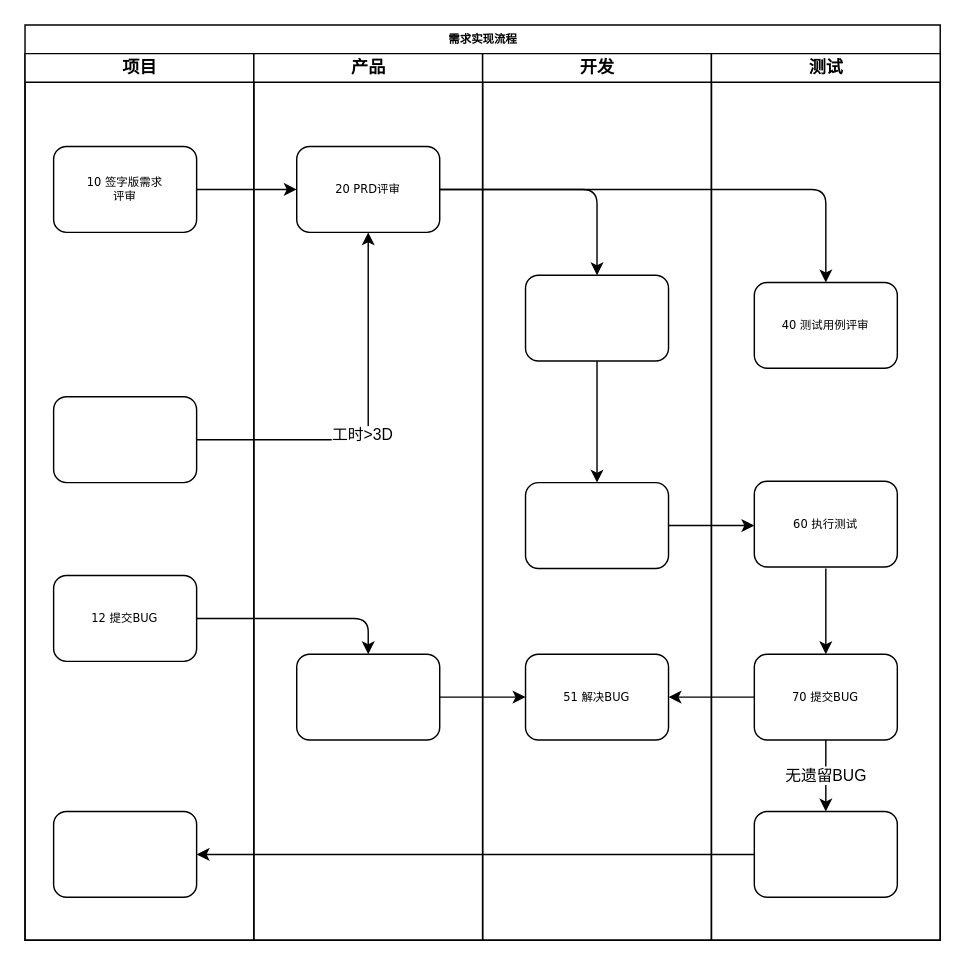
The diagram is 965 pixels wide and 965 high, and some of its shapes have lost their labels. Each missing label, with the centre of its shape:
"11 需求变更 PCR评审" belongs at (x=124, y=439).
"13 验收测试" belongs at (x=124, y=853).
"21 分析并指派BUG" belongs at (x=367, y=696).
"30 一页纸评审" belongs at (x=596, y=317).
"50 功能演示" belongs at (x=596, y=524).
"80 发布程序" belongs at (x=825, y=853).
